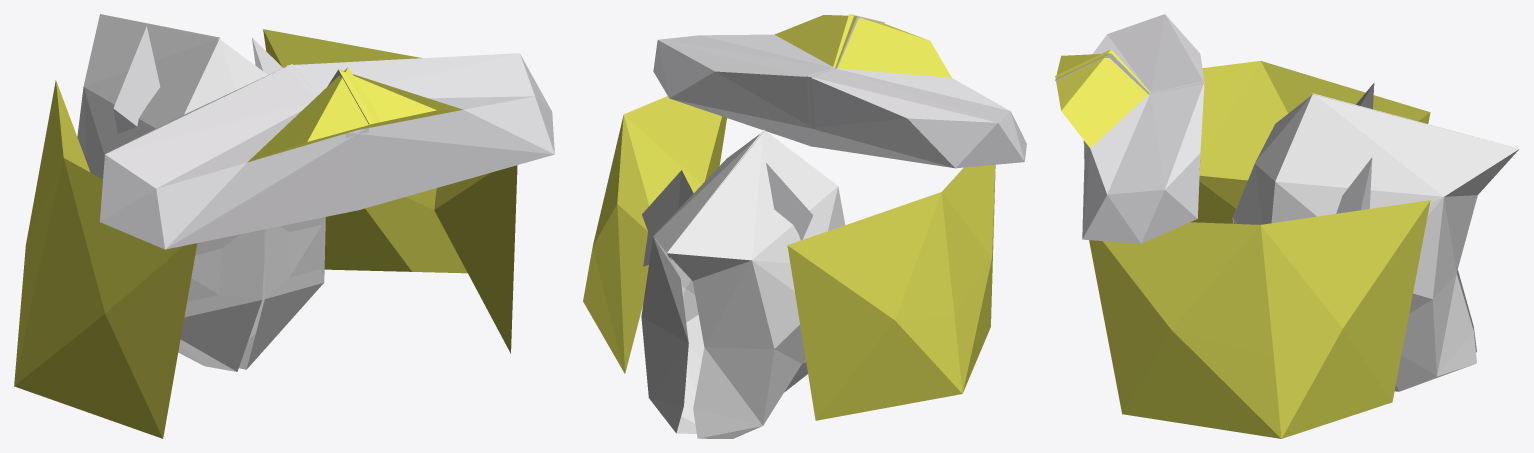
Rendered from protein_5.fbx.
3 views of the same model, side by side, from view 1: azimuth 30°, elevation 25°; view 2: azimuth 150°, elevation 25°; view 3: azimuth 270°, elevation 25° (orthographic). The views are drawn at different scales.
Visible parts, largest first — view 1: wings, main body.001, arm static, arm animate; view 2: wings, main body.001, arm animate, arm static; view 3: wings, main body.001, arm animate.
Boxes of the visible parts, left/top/right/bottom form: wings: left=14, top=29, right=554, bottom=438; main body.001: left=77, top=14, right=325, bottom=371; arm static: left=113, top=26, right=160, bottom=133; arm animate: left=252, top=37, right=282, bottom=74; wings: left=583, top=14, right=1026, bottom=420; main body.001: left=641, top=129, right=845, bottom=438; arm animate: left=642, top=170, right=693, bottom=266; arm static: left=766, top=163, right=813, bottom=240; wings: left=1055, top=14, right=1430, bottom=438; main body.001: left=1232, top=93, right=1519, bottom=391; arm animate: left=1336, top=157, right=1372, bottom=213.
Bounding box in the file's own units: 408 × 329 × 409.
